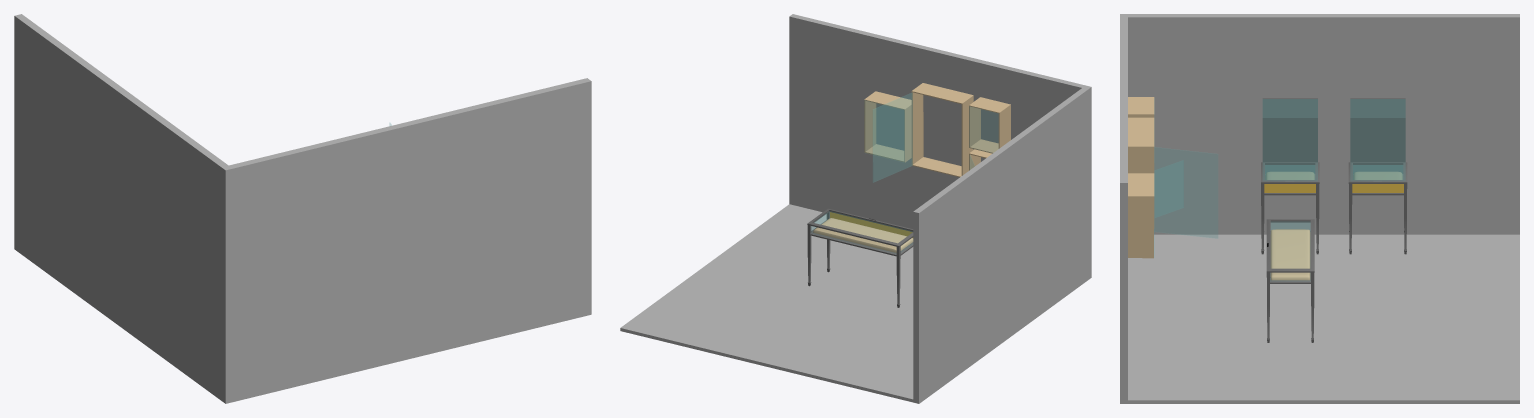
The model's file is Showcase Store.glb.
3 renders of one model, left to right at view 1: azimuth 30°, elevation 25°; view 2: azimuth 150°, elevation 25°; view 3: azimuth 270°, elevation 25°, orthographic. The views are drawn at different scales.
Parts seen in each view (by area): view 1: loja_joias_minimalista; view 2: loja_joias_minimalista, Material2.001, Cube.002, Cube, trophy_table_long_Cube, trophy_table_long_Cube.005, Cube.001, trophy_table_long_Cube.003; view 3: loja_joias_minimalista, Cube.002, trophytable1_short_Cube.010, trophytable1_short_Cube.005, Material2.001, trophy_table_long_Cube.005, trophy_table_long_Cube, Cube.003, trophytable1_short_Cube.002, trophytable1_short_Cube.017, trophytable1_short_Cube.004, trophytable1_short_Cube.015.
Boxes of the visible parts, x1=… form: loja_joias_minimalista: x1=14, y1=14, x2=591, y2=403; loja_joias_minimalista: x1=620, y1=14, x2=1091, y2=403; Material2.001: x1=864, y1=83, x2=1010, y2=177; Cube.002: x1=873, y1=92, x2=912, y2=182; Cube: x1=864, y1=100, x2=904, y2=160; trophy_table_long_Cube: x1=807, y1=208, x2=913, y2=307; trophy_table_long_Cube.005: x1=813, y1=218, x2=913, y2=252; Cube.001: x1=969, y1=106, x2=998, y2=152; trophy_table_long_Cube.003: x1=830, y1=212, x2=913, y2=237; loja_joias_minimalista: x1=1120, y1=14, x2=1519, y2=403; Cube.002: x1=1154, y1=147, x2=1217, y2=238; trophytable1_short_Cube.010: x1=1261, y1=98, x2=1319, y2=254; trophytable1_short_Cube.005: x1=1348, y1=98, x2=1407, y2=254; Material2.001: x1=1128, y1=97, x2=1154, y2=258; trophy_table_long_Cube.005: x1=1270, y1=229, x2=1310, y2=280; trophy_table_long_Cube: x1=1266, y1=219, x2=1314, y2=342; Cube.003: x1=1155, y1=160, x2=1183, y2=217; trophytable1_short_Cube.002: x1=1352, y1=184, x2=1403, y2=192; trophytable1_short_Cube.017: x1=1264, y1=184, x2=1315, y2=192; trophytable1_short_Cube.004: x1=1353, y1=171, x2=1402, y2=179; trophytable1_short_Cube.015: x1=1265, y1=171, x2=1314, y2=179.
Size of the model in its own units: 6.33 by 3.86 by 6.33.
